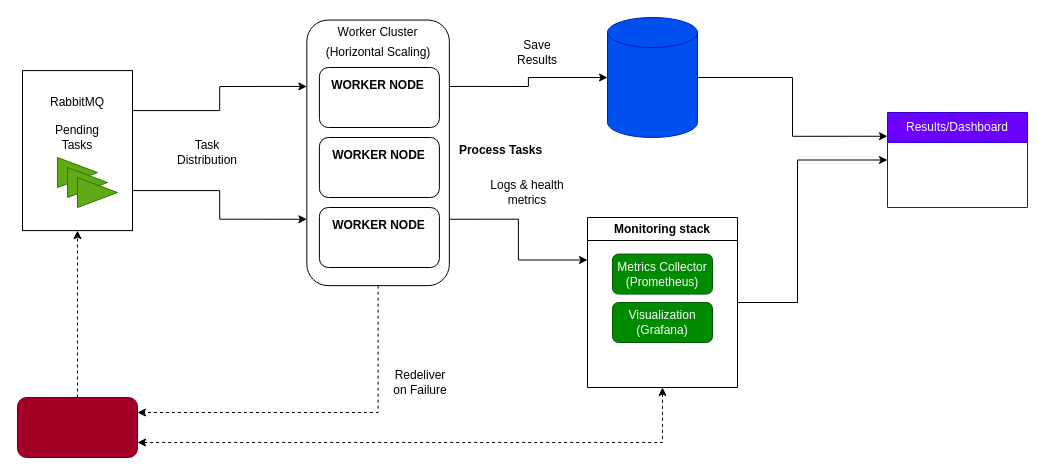
Image size: 1045x475. Some labels were removed from this diagram. Each missing label, with the centre of its shape:
Failover Mechanism: (77,427)
SQL Database: (652,77)
